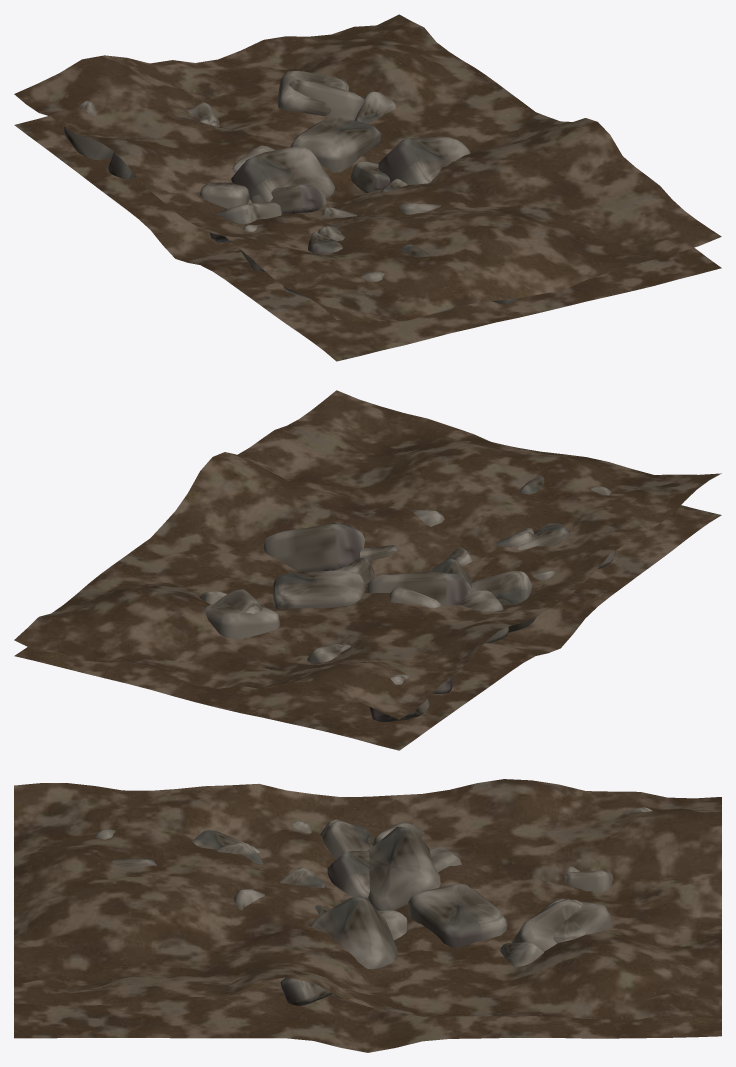
The model's file is starfort_ditch_floor_hero.glb.
3 views of the same model, one above another, from view 1: azimuth 30°, elevation 25°; view 2: azimuth 150°, elevation 25°; view 3: azimuth 270°, elevation 25° (orthographic). The views are drawn at different scales.
Visible parts, largest first — view 1: silted, intact; view 2: silted, intact; view 3: silted, intact.
Boxes of the visible parts, box(x1,y1,x2,y2) form: silted: box(14, 14, 721, 321); intact: box(14, 116, 721, 361); silted: box(14, 390, 721, 721); intact: box(14, 505, 721, 750); silted: box(14, 779, 721, 1019); intact: box(14, 977, 721, 1052).
Size of what is drawn, in the model's own units: 4 by 0.8524 by 5.8.
Materials: 1 (1 with a texture image).
